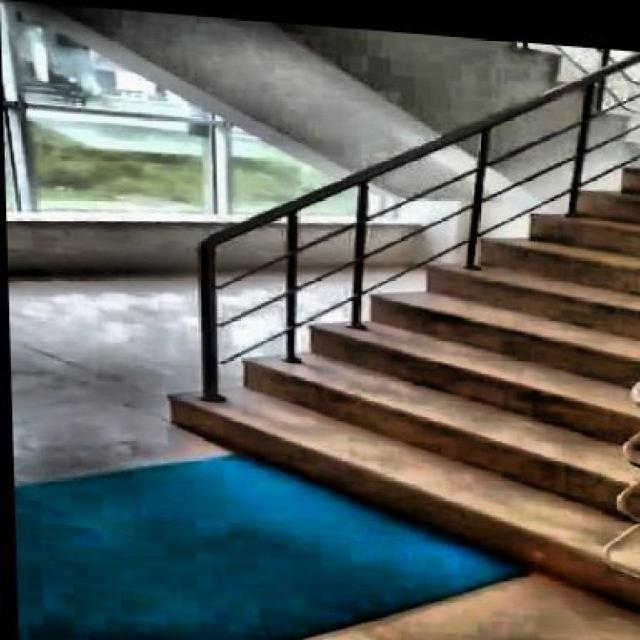stair: (112, 43, 638, 608)
